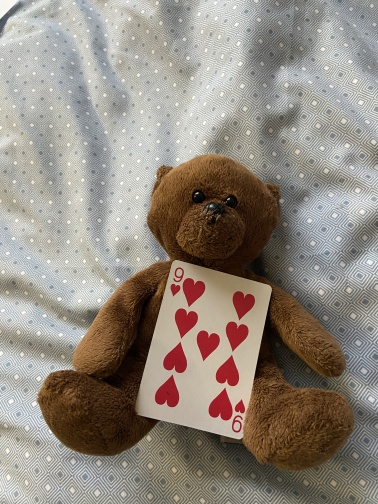nine: (131, 259, 273, 441)
